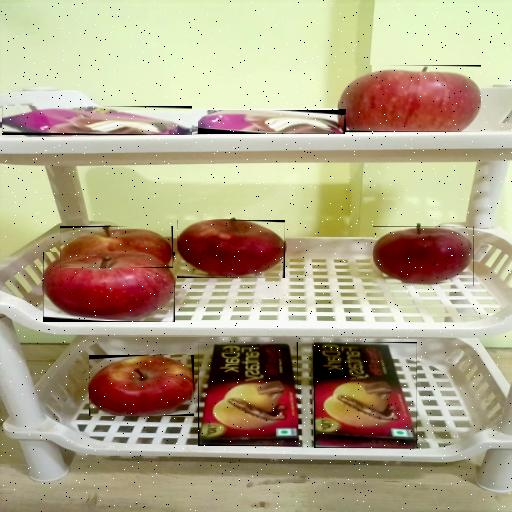Apple: (338, 65, 480, 132), (43, 252, 175, 322), (89, 355, 194, 416), (177, 220, 285, 278), (373, 226, 474, 286), (60, 226, 173, 268)
Choco Fills: (314, 342, 417, 448), (198, 342, 298, 446)
Choco Pie: (2, 106, 192, 135), (198, 110, 345, 134)
